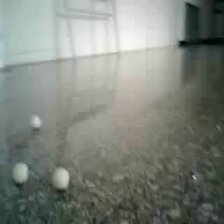tennis: (142, 110, 163, 136), (51, 82, 69, 104), (57, 60, 70, 76)
